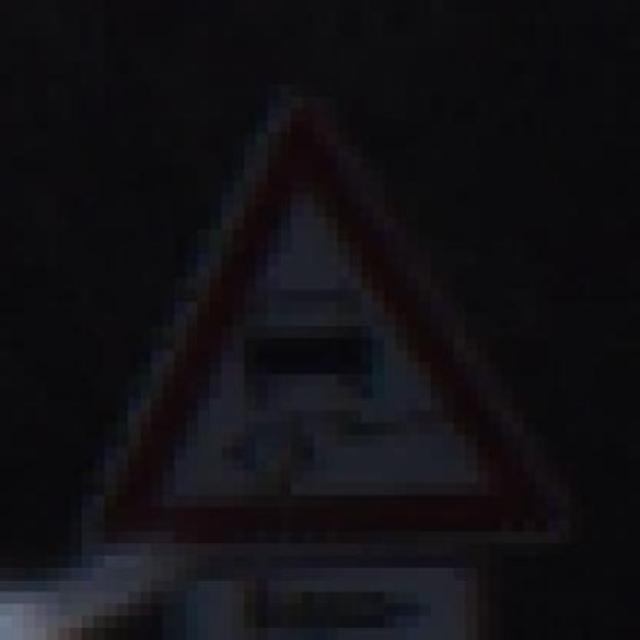Slippery Road Ahead: (70, 85, 582, 568)
